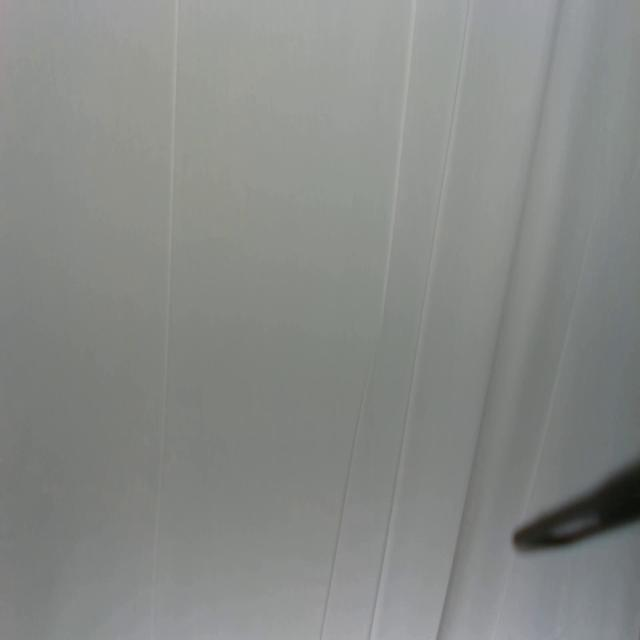crease: (369, 0, 470, 639), (318, 0, 418, 636), (528, 213, 596, 491), (152, 0, 180, 636)
